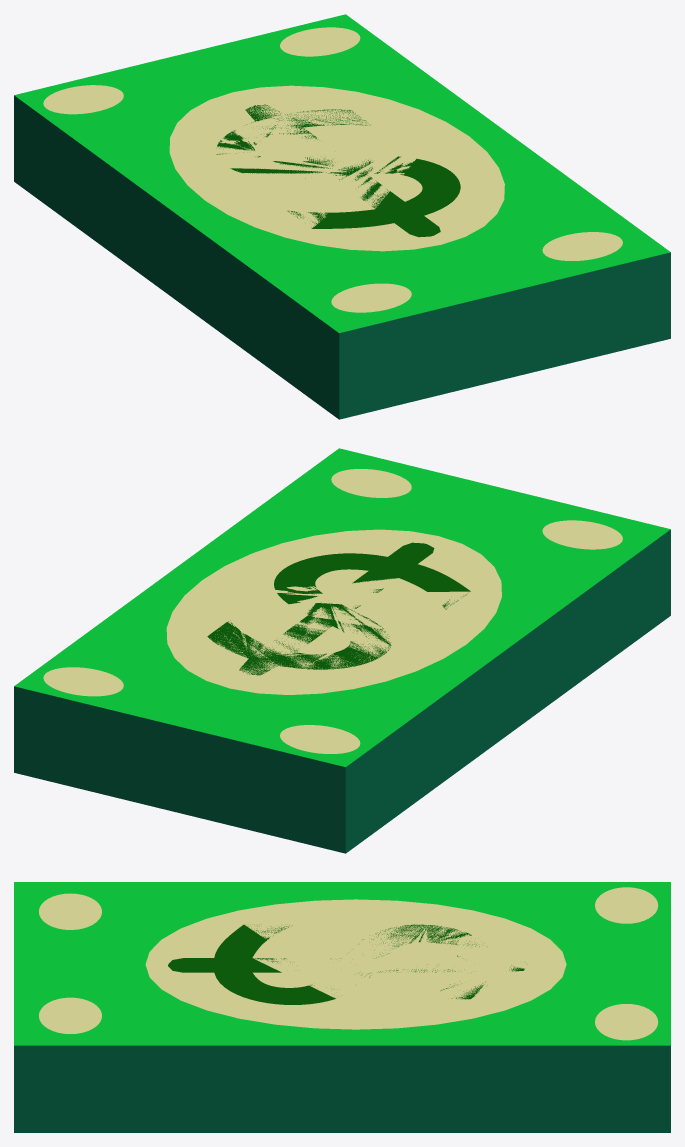
Rendered from Money.fbx.
3 views of the same model, one above another, from view 1: azimuth 30°, elevation 25°; view 2: azimuth 150°, elevation 25°; view 3: azimuth 270°, elevation 25° (orthographic).
Visible parts, largest first — view 1: Money; view 2: Money; view 3: Money.
Part boxes in pixels (x1=…): Money: x1=14, y1=14, x2=670, y2=419; Money: x1=14, y1=448, x2=670, y2=853; Money: x1=14, y1=882, x2=670, y2=1132.
Bounding box in the file's own units: 89.66 × 22.32 × 152.
